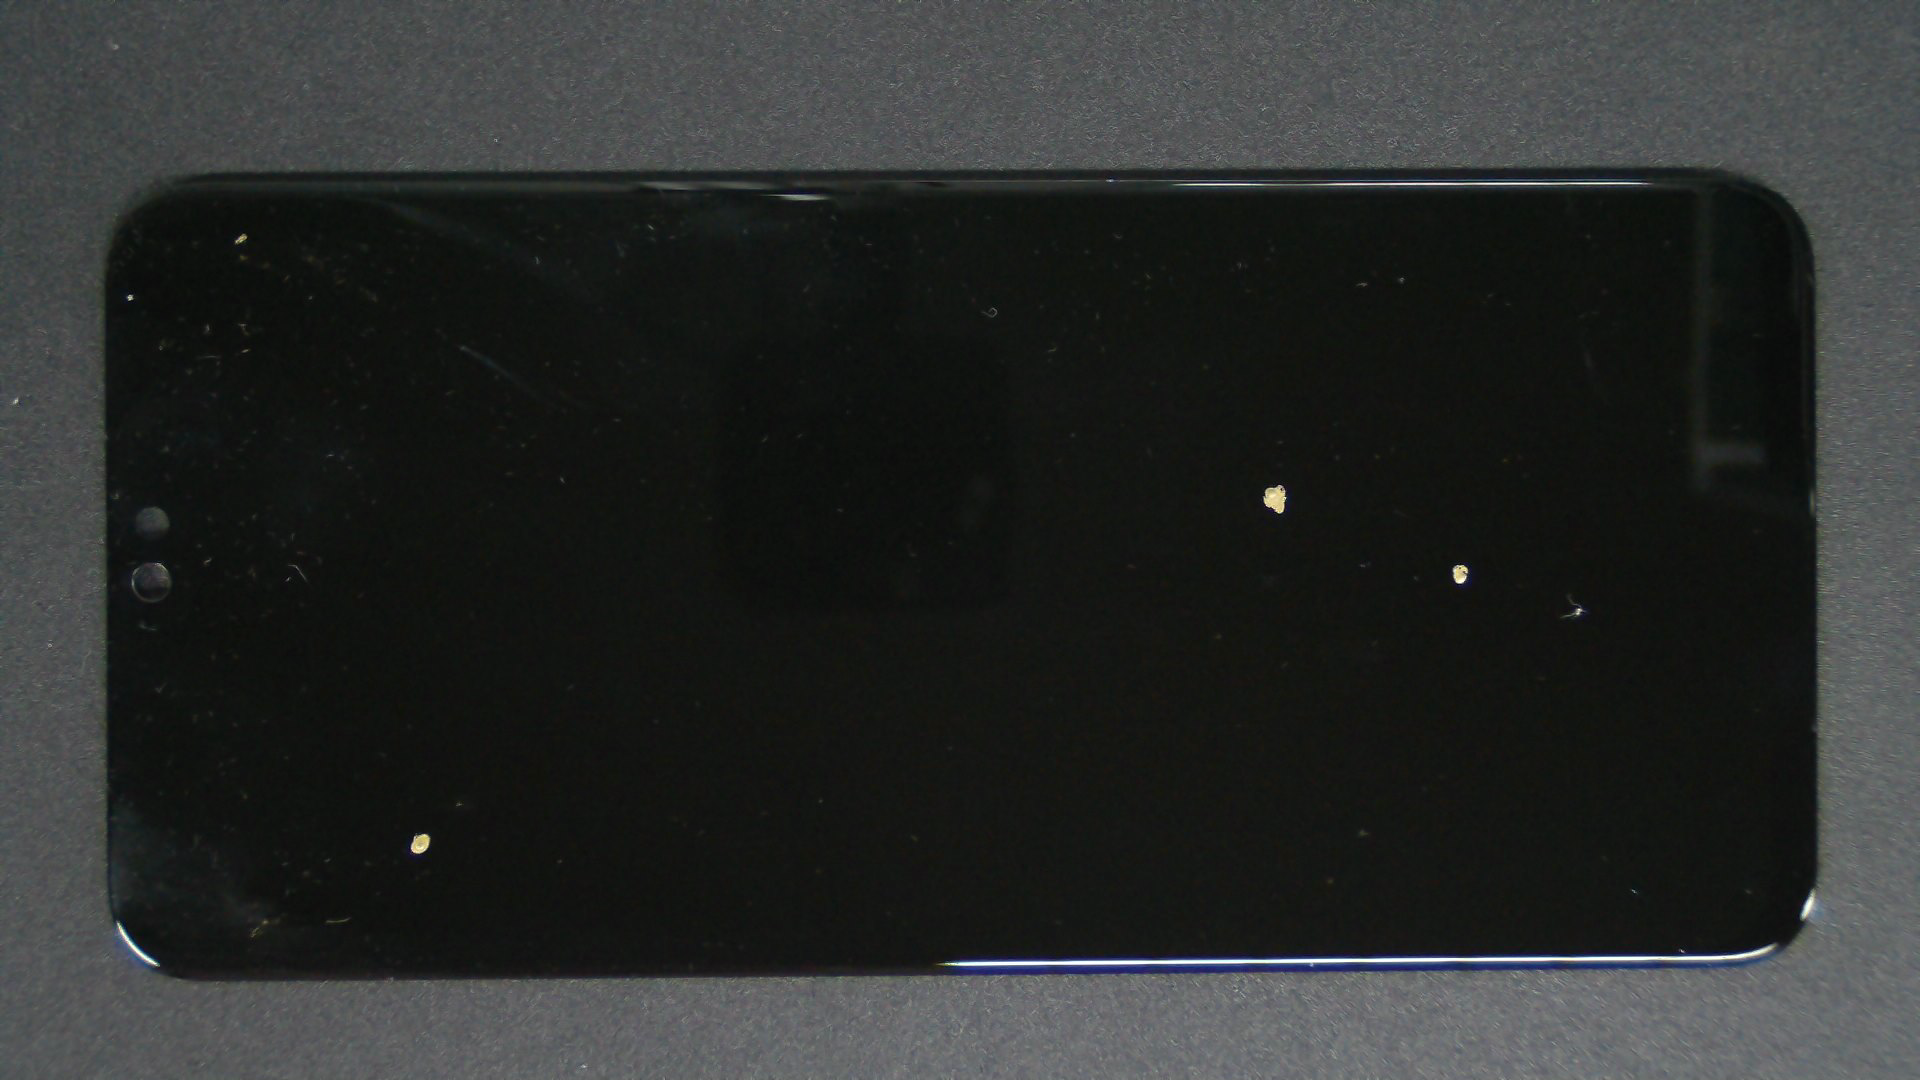defect: (1262, 483, 1287, 514), (1563, 596, 1589, 618), (409, 833, 431, 855), (1451, 564, 1469, 584), (233, 232, 248, 245), (124, 294, 135, 301)
